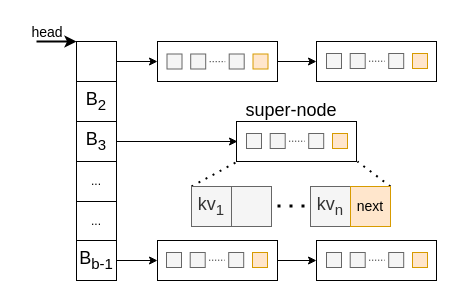
The diagram is 454 pixels wide and 298 high, and some of its shapes have lost their labels. The shapes that lost their labels are listed below. From the top down, each one's box as (x1, y1, x2, y2) in pixels, then its label:
(76, 40, 116, 82): B 1
(230, 186, 272, 226): kv 2
